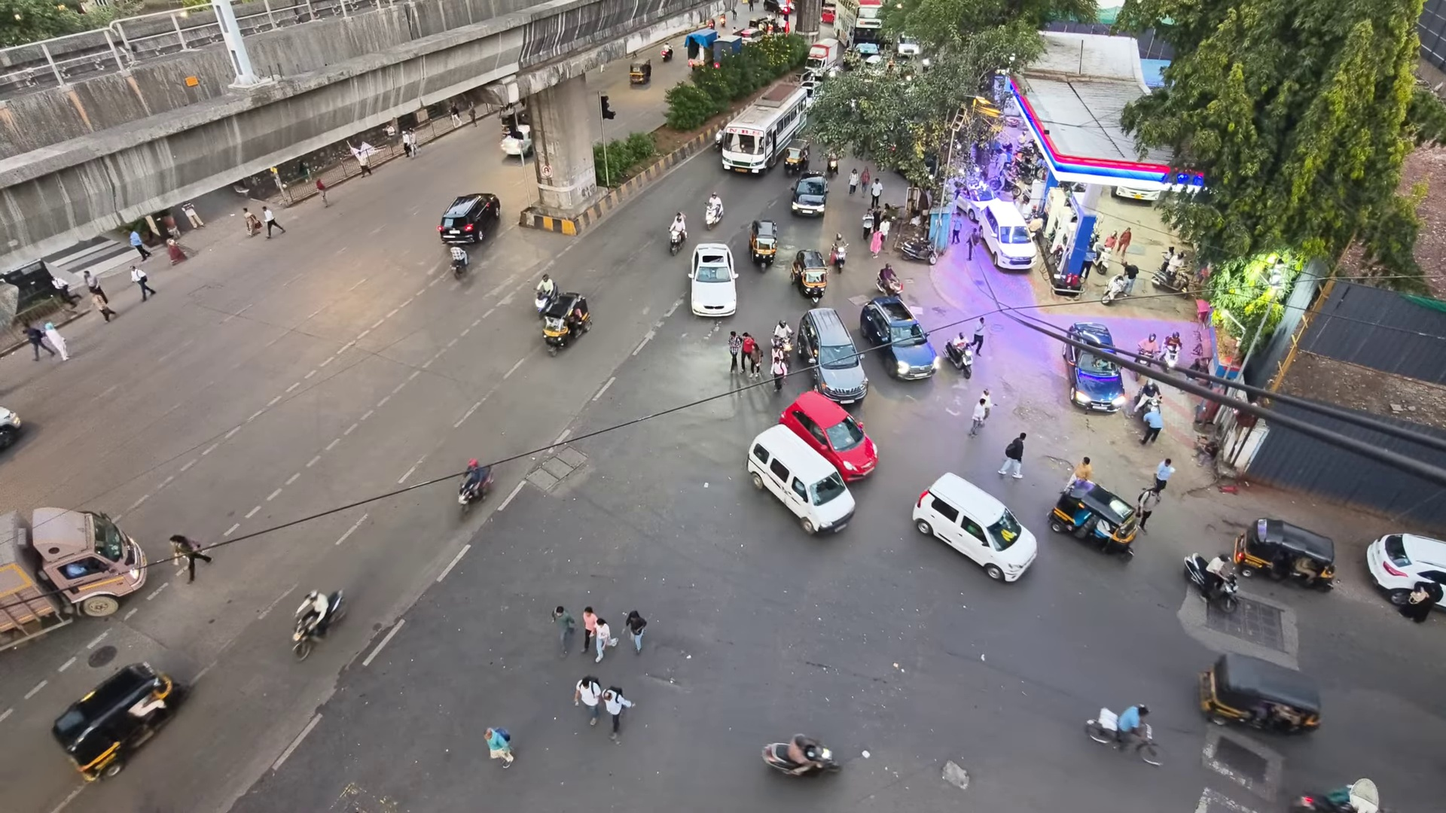driving: (0, 507, 146, 648), (52, 662, 184, 781), (912, 473, 1036, 581), (779, 391, 877, 482), (1049, 481, 1137, 561), (796, 308, 868, 403), (860, 296, 938, 379), (1062, 322, 1127, 412), (1365, 534, 1445, 605), (1085, 708, 1161, 766), (688, 242, 737, 316), (1184, 553, 1237, 612), (438, 193, 499, 243), (543, 292, 590, 355), (790, 249, 827, 303), (790, 171, 827, 216), (749, 219, 777, 266), (0, 406, 21, 450)
walking: (169, 534, 212, 583), (1399, 580, 1442, 623), (602, 687, 633, 740), (574, 674, 602, 724), (998, 432, 1027, 479), (552, 605, 576, 656), (24, 323, 56, 360), (485, 727, 514, 767), (1136, 487, 1160, 530), (594, 617, 615, 662), (1065, 456, 1092, 491), (44, 322, 68, 361), (625, 610, 646, 653), (130, 266, 155, 301), (742, 332, 761, 377), (83, 269, 108, 303), (1141, 406, 1162, 444), (261, 206, 285, 238), (52, 277, 79, 305), (90, 293, 116, 321), (582, 607, 597, 654), (969, 397, 987, 436), (771, 352, 788, 391), (1155, 458, 1175, 491), (728, 331, 743, 373), (130, 230, 150, 260), (971, 316, 986, 355), (1115, 228, 1131, 261), (183, 202, 204, 227), (243, 207, 261, 236), (166, 238, 186, 264), (967, 224, 981, 259), (1124, 263, 1138, 295), (870, 178, 883, 207), (356, 150, 371, 175), (870, 230, 883, 257), (316, 177, 328, 206), (981, 388, 992, 418), (950, 219, 962, 244), (848, 168, 859, 195), (450, 103, 461, 126), (860, 167, 870, 189)
